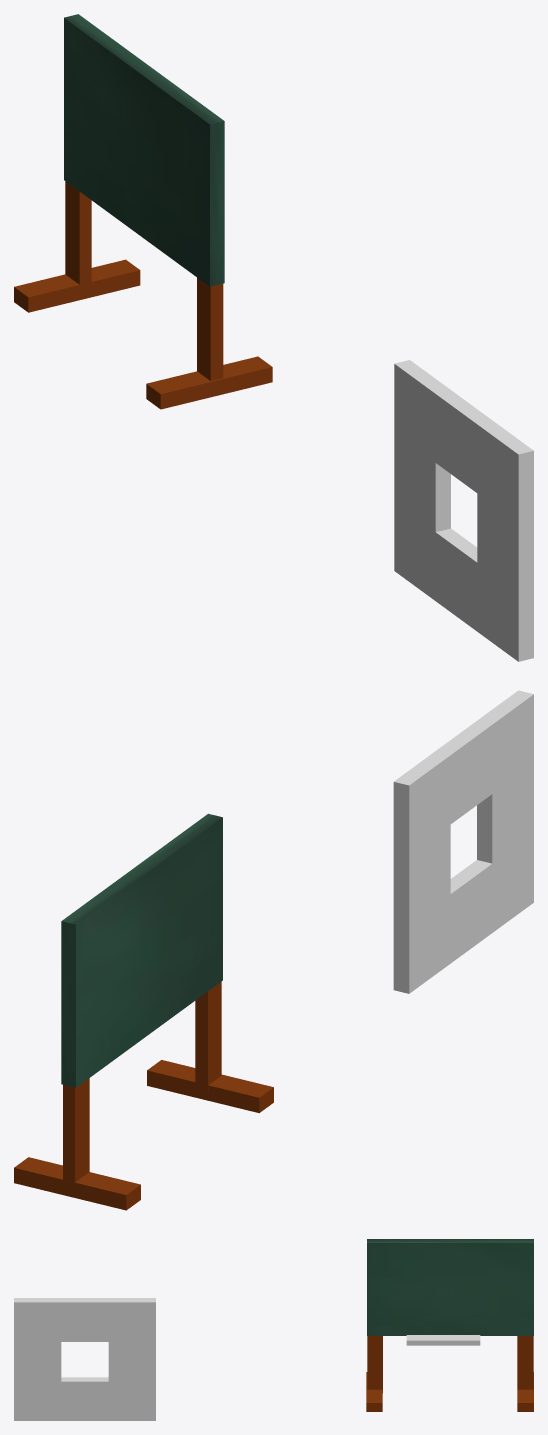
Rendered from desk.fbx.
3 views of the same model, one above another, from view 1: azimuth 30°, elevation 25°; view 2: azimuth 150°, elevation 25°; view 3: azimuth 270°, elevation 25° (orthographic). The views are drawn at different scales.
Parts seen in each view (by area): view 1: Cube, Cube.001, Cube.004, Cube.005; view 2: Cube, Cube.001, Cube.005, Cube.004; view 3: Cube.001, Cube, Cube.005, Cube.004, Cube.006.
Part boxes in pixels (left/top/right/bottom): Cube: left=394, top=360, right=533, bottom=661; Cube.001: left=64, top=14, right=224, bottom=286; Cube.004: left=146, top=277, right=272, bottom=409; Cube.005: left=14, top=181, right=140, bottom=312; Cube: left=393, top=690, right=533, bottom=993; Cube.001: left=61, top=813, right=222, bottom=1087; Cube.005: left=14, top=1078, right=140, bottom=1210; Cube.004: left=147, top=981, right=273, bottom=1113; Cube.001: left=367, top=1239, right=533, bottom=1335; Cube: left=14, top=1298, right=155, bottom=1420; Cube.005: left=517, top=1336, right=533, bottom=1411; Cube.004: left=366, top=1336, right=382, bottom=1411; Cube.006: left=406, top=1335, right=480, bottom=1345.
Size of the model in its own units: 359 by 954 by 2530.
